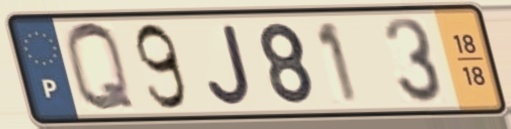1: (312, 19, 361, 107)
3: (383, 15, 446, 107)
8: (258, 20, 318, 108)
9: (131, 21, 190, 113)
J: (204, 22, 256, 108)
Q: (62, 19, 141, 117)
